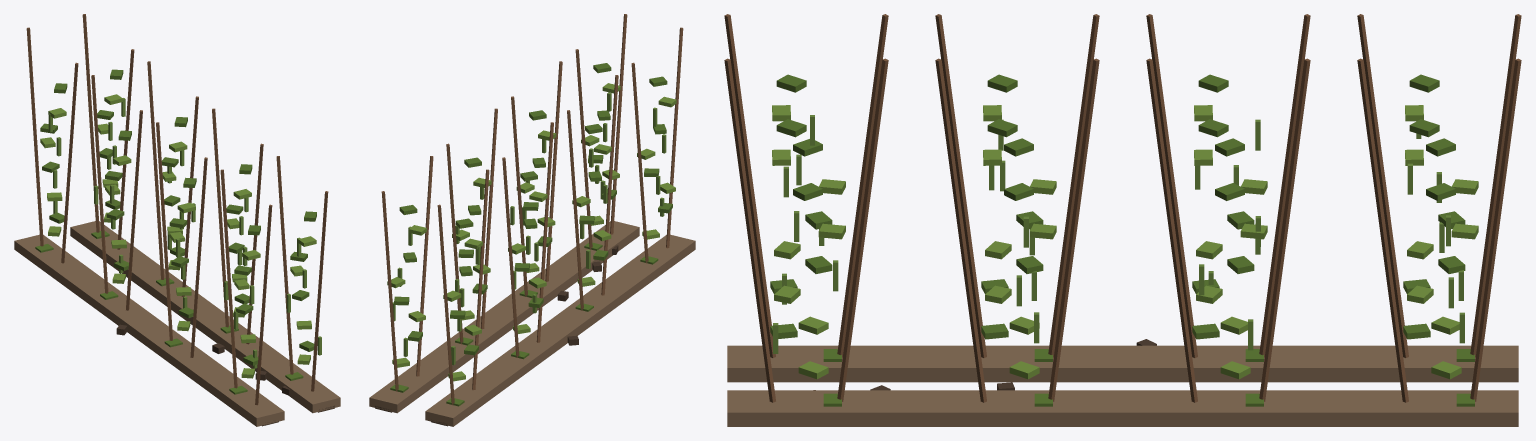
Rendered from crop_beans_4.glb.
3 views of the same model, side by side, from view 1: azimuth 30°, elevation 25°; view 2: azimuth 150°, elevation 25°; view 3: azimuth 270°, elevation 25° (orthographic). The views are drawn at different scales.
Parts seen in each view (by area): view 1: room_crop_beans_4; view 2: room_crop_beans_4; view 3: room_crop_beans_4.
Part boxes in pixels (left/top/right/bottom): room_crop_beans_4: left=14, top=14, right=340, bottom=426; room_crop_beans_4: left=369, top=14, right=695, bottom=426; room_crop_beans_4: left=724, top=14, right=1521, bottom=426.
Bounding box in the file's own units: 0.6831 × 1.5 × 3.02.
